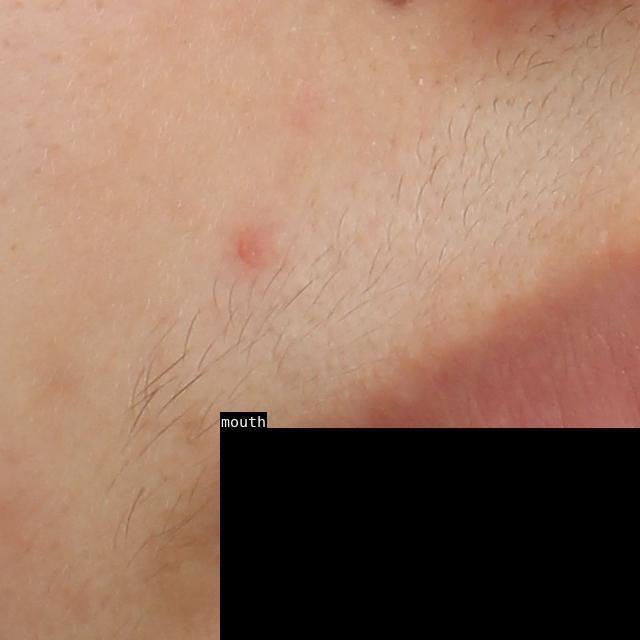papule: (235, 240, 261, 270)
